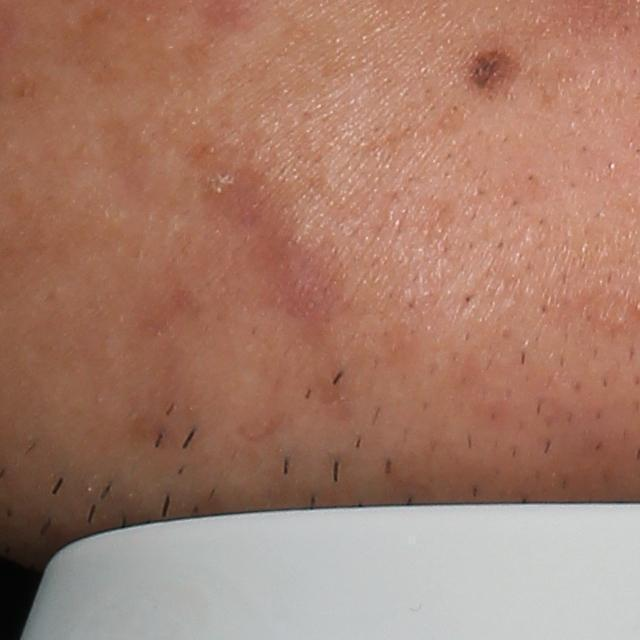nevus: (462, 41, 523, 94)
